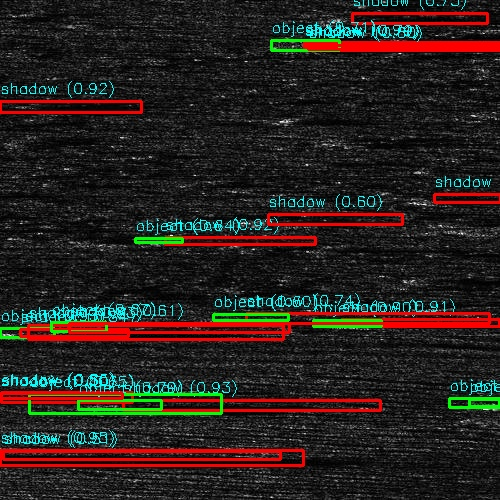rock: (65, 399, 200, 412), (415, 301, 488, 314), (438, 222, 500, 235), (279, 41, 332, 50), (459, 398, 500, 409), (409, 270, 430, 287), (0, 331, 38, 340), (464, 411, 500, 420), (231, 315, 294, 320), (404, 199, 457, 202), (339, 138, 370, 141), (485, 110, 500, 115)
shadow: (133, 399, 348, 412), (306, 41, 500, 50), (420, 270, 500, 287), (0, 394, 135, 403), (0, 103, 133, 112), (2, 331, 122, 340), (263, 315, 443, 320), (0, 456, 283, 459), (452, 301, 500, 314), (355, 138, 496, 141), (360, 322, 500, 325), (0, 120, 56, 127), (431, 199, 500, 202)
